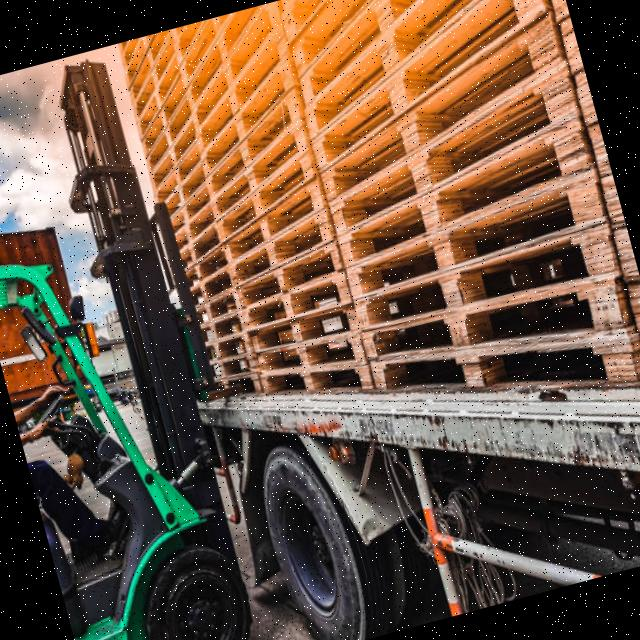Wooden-Pallets: (308, 0, 548, 180), (334, 118, 591, 274), (347, 214, 621, 338), (371, 331, 640, 413), (195, 51, 297, 185), (256, 359, 369, 397)
